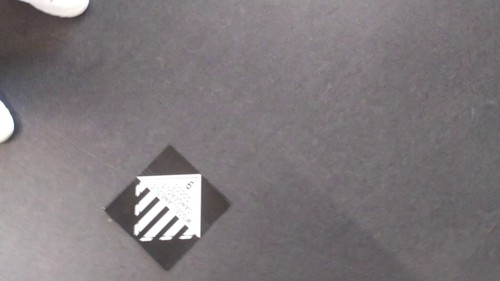misgoods: (131, 169, 207, 247)
